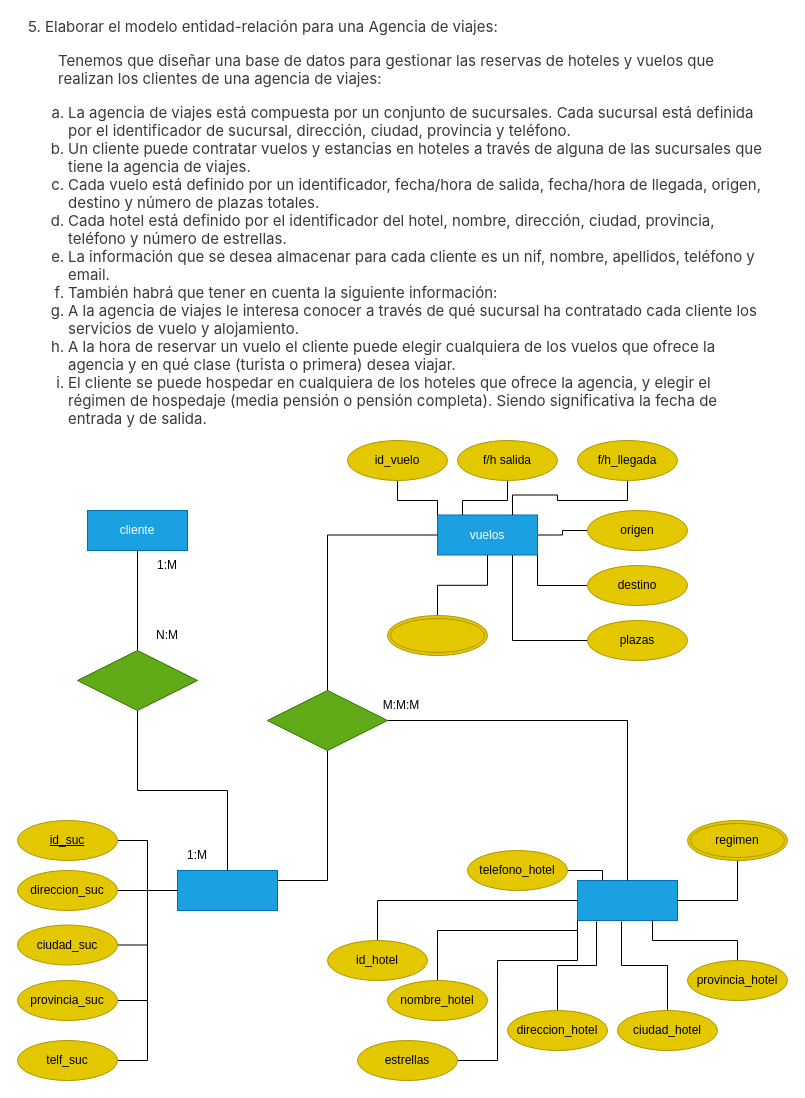
Image size: 805x1098. Some labels were removed from this diagram. Here are the shapes that lost their labels. From the top down, the centre of each, then its label:
(x=437, y=635): clase
(x=137, y=680): contrata
(x=327, y=720): reserva
(x=227, y=890): sucursal
(x=627, y=900): hoteles
